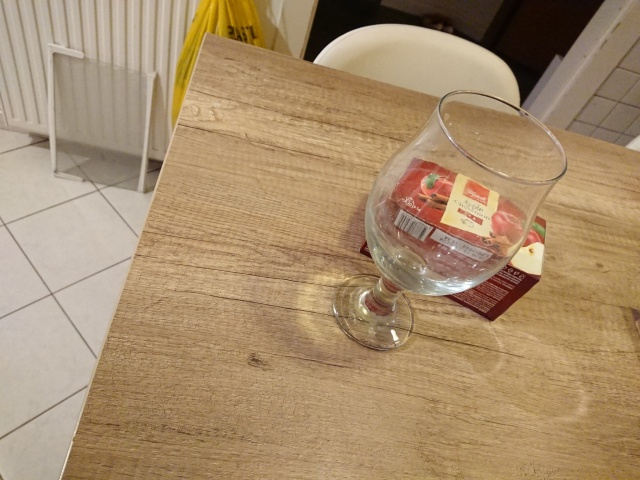Franck Apple Cinnamon Tea 60g: (355, 152, 550, 326)
